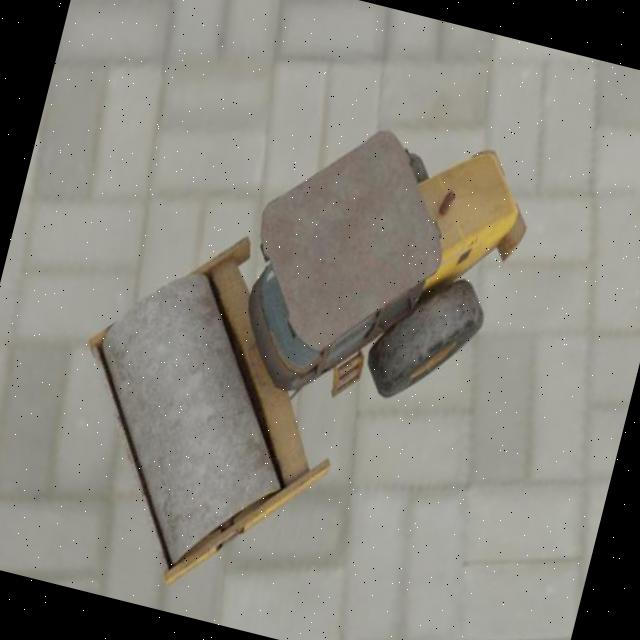Roller: (33, 64, 543, 640)
